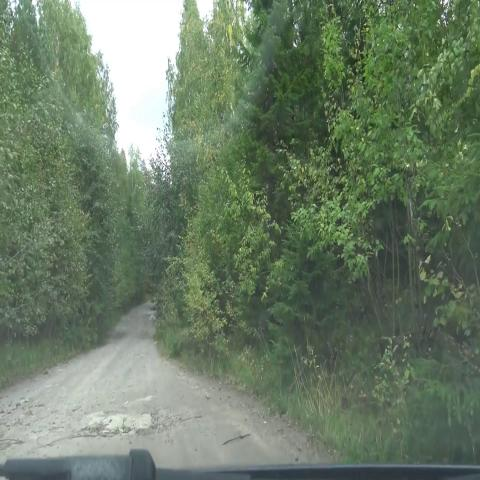pothole: (69, 384, 185, 455)
